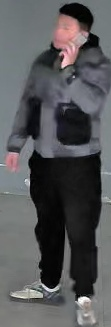phone: (51, 20, 110, 115)
